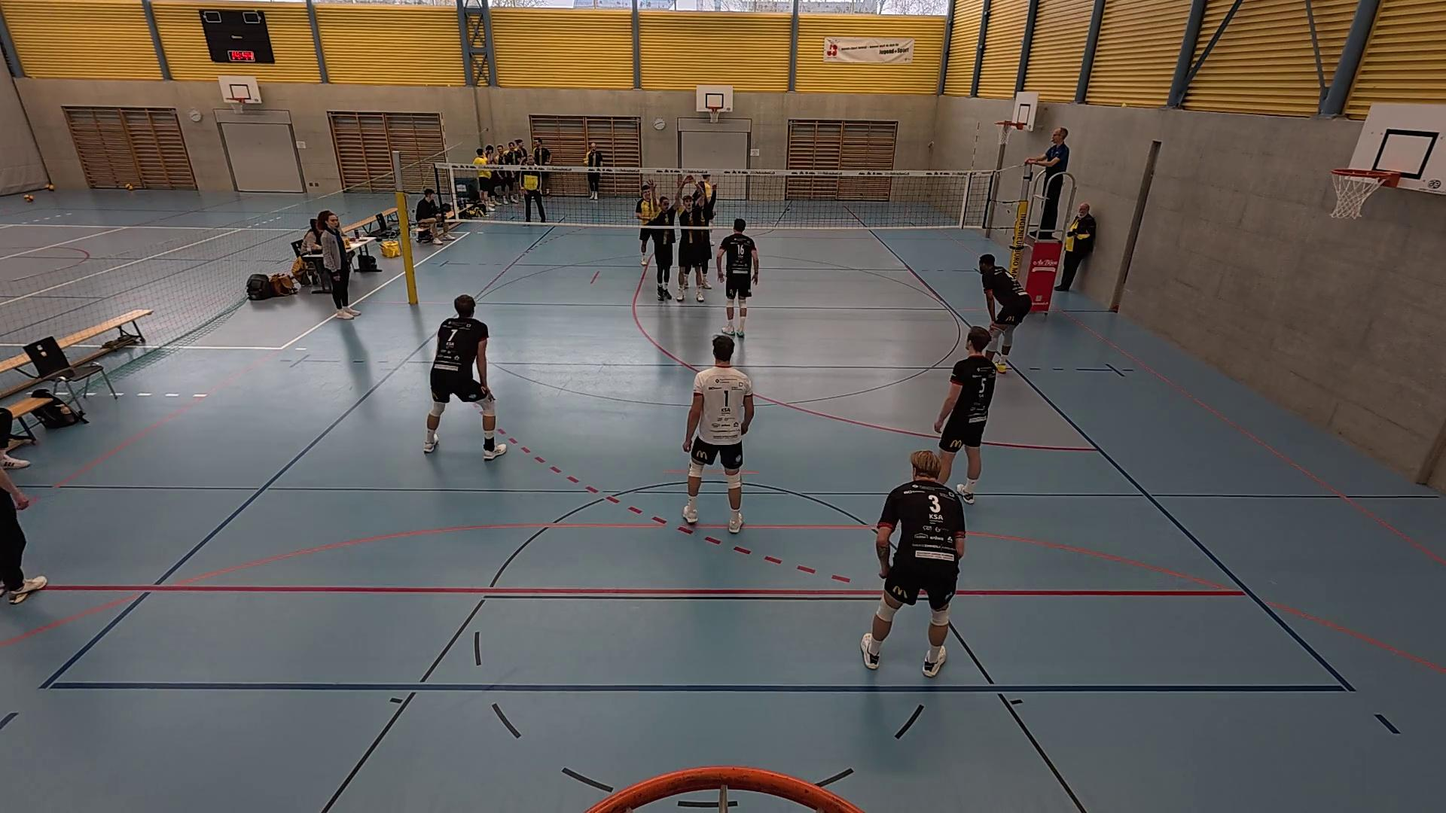Player: (860, 449, 966, 675), (679, 333, 754, 533), (424, 294, 509, 459), (932, 328, 999, 502), (978, 254, 1029, 376), (715, 218, 760, 338), (673, 193, 710, 304), (648, 190, 682, 302), (634, 181, 663, 278), (689, 173, 718, 247), (584, 142, 606, 202)
ball: (580, 158, 590, 167)
